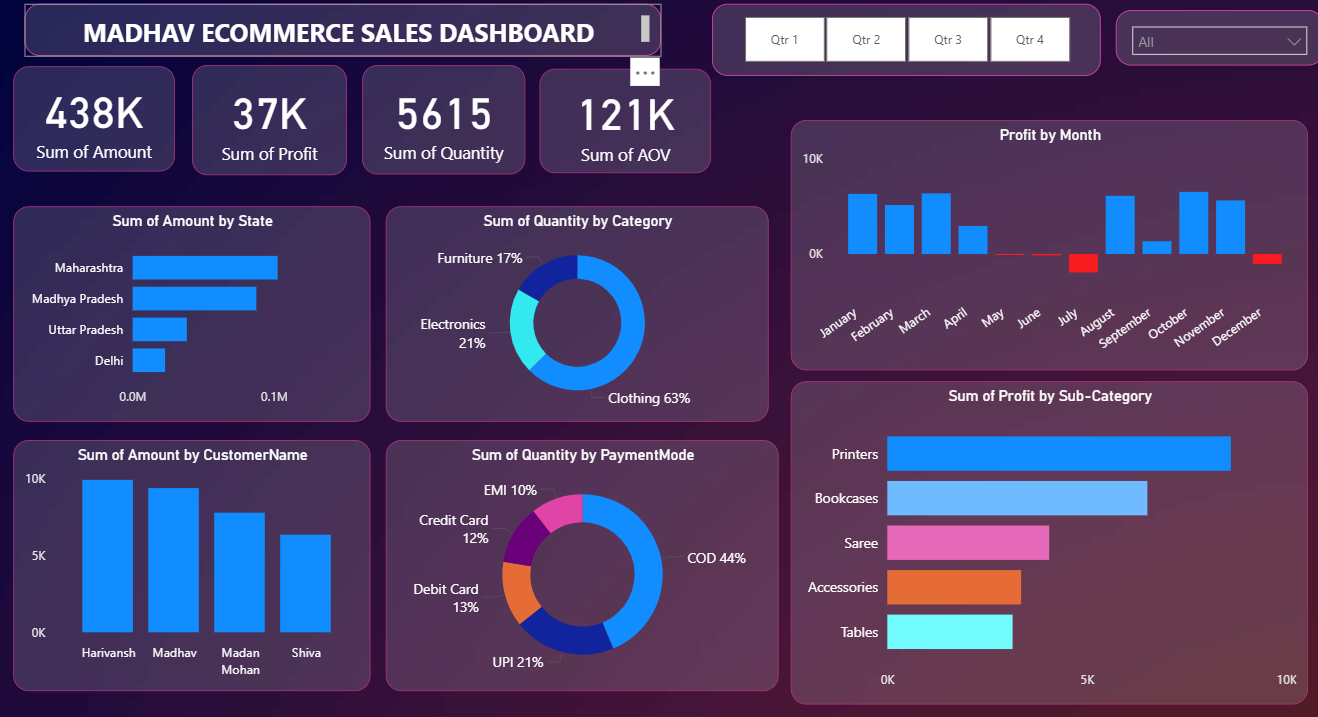

This screenshot's page, from the dashboard's own definition file:
{"tool":"powerbi","page":{"name":"Page 1","canvas":[1280,720],"ordinal":0},"visuals":[{"type":"columnChart","title":"Profit by Month","fields":{"Category":["Orders (1).Order Date.Variation.Date Hierarchy.Month"],"Y":["Details (1).Profit"]},"box":[766.1,120.6,499.5,241.3],"z":0},{"type":"barChart","fields":{"Category":["Details (1).Sub-Category"],"Y":["Details (1).Profit"]},"box":[766.1,372.2,499.2,311.6],"z":1000},{"type":"donutChart","fields":{"Category":["Details (1).Category"],"Y":["Details (1).Quantity"]},"box":[375.1,203.4,369.3,207.8],"z":2000},{"type":"donutChart","fields":{"Y":["Details (1).Quantity"],"Category":["Details (1).PaymentMode"]},"box":[375.1,429.9,379.4,242.4],"z":3000},{"type":"card","fields":{"Values":["Details (1).Amount"]},"box":[15.7,68.8,155.6,101.3],"z":4000},{"type":"card","fields":{"Values":["Details (1).Quantity"]},"box":[352,67.8,157.3,105.3],"z":5000},{"type":"card","fields":{"Values":["Details (1).Profit"]},"box":[188.2,67.6,149.6,106.2],"z":6000},{"type":"card","fields":{"Values":["Details (1).AOV"]},"box":[523.7,70.7,165.9,101],"z":7000},{"type":"barChart","fields":{"Category":["Orders (1).State"],"Y":["Details (1).Amount"]},"box":[15.9,203.4,344.8,207.8],"z":8000},{"type":"columnChart","fields":{"Category":["Orders (1).CustomerName"],"Y":["Details (1).Amount"]},"box":[15.9,429.9,344.8,242.4],"z":9000},{"type":"textbox","box":[26,8.7,614.6,50.5],"z":10000},{"type":"slicer","fields":{"Values":["Orders (1).Order Date.Variation.Date Hierarchy.Quarter"]},"box":[689.6,8.7,375.1,69.3],"z":11000},{"type":"slicer","fields":{"Values":["Orders (1).State"]},"box":[1079.2,14.4,200.5,53.4],"z":12000}]}

Visuals, with their boxes on the page's 1280x720 design canvas (x1, y1, x2, y2). These are canvas units, not pixel positions in the 1318x717 screenshot, which may show the page scaled, cropped or inside an application window:
"Profit by Month" columnChart: l=766, t=121, r=1266, b=362
barChart - Details (1).Sub-Category x Details (1).Profit: l=766, t=372, r=1265, b=684
donutChart - Details (1).Category x Details (1).Quantity: l=375, t=203, r=744, b=411
donutChart - Details (1).Quantity x Details (1).PaymentMode: l=375, t=430, r=754, b=672
card - Details (1).Amount: l=16, t=69, r=171, b=170
card - Details (1).Quantity: l=352, t=68, r=509, b=173
card - Details (1).Profit: l=188, t=68, r=338, b=174
card - Details (1).AOV: l=524, t=71, r=690, b=172
barChart - Orders (1).State x Details (1).Amount: l=16, t=203, r=361, b=411
columnChart - Orders (1).CustomerName x Details (1).Amount: l=16, t=430, r=361, b=672
textbox: l=26, t=9, r=641, b=59
slicer - Orders (1).Order Date.Variation.Date Hierarchy.Quarter: l=690, t=9, r=1065, b=78
slicer - Orders (1).State: l=1079, t=14, r=1280, b=68
